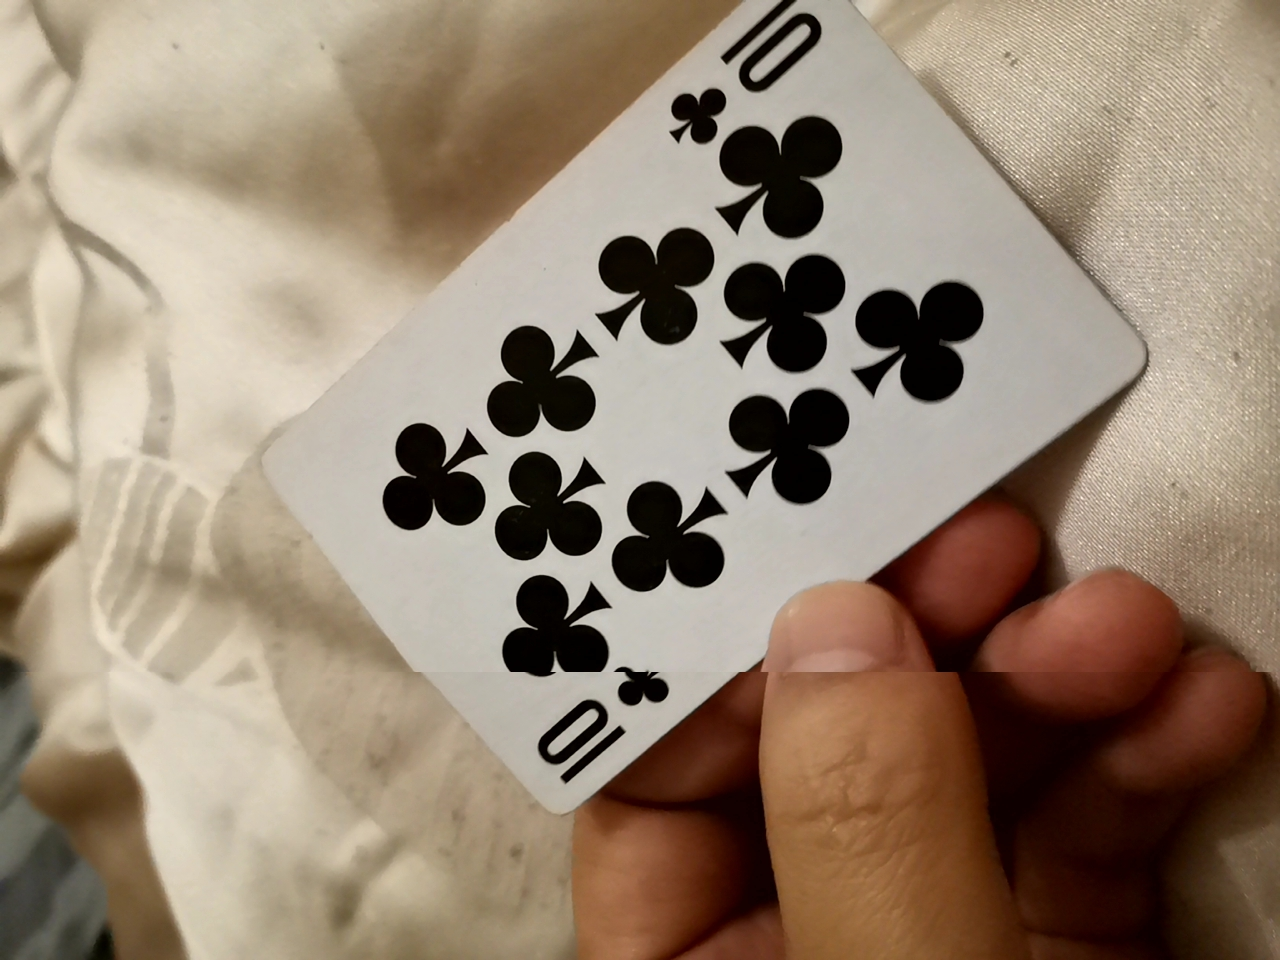mh 10: (268, 5, 1125, 831)
